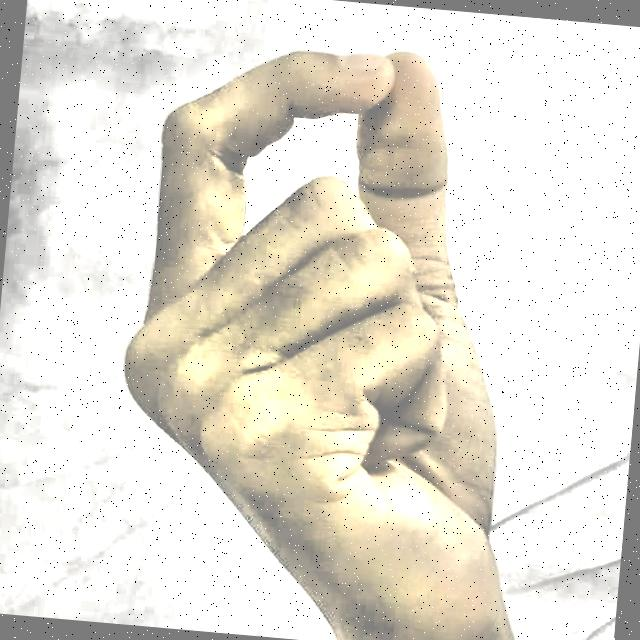Gha: (63, 7, 590, 640)
